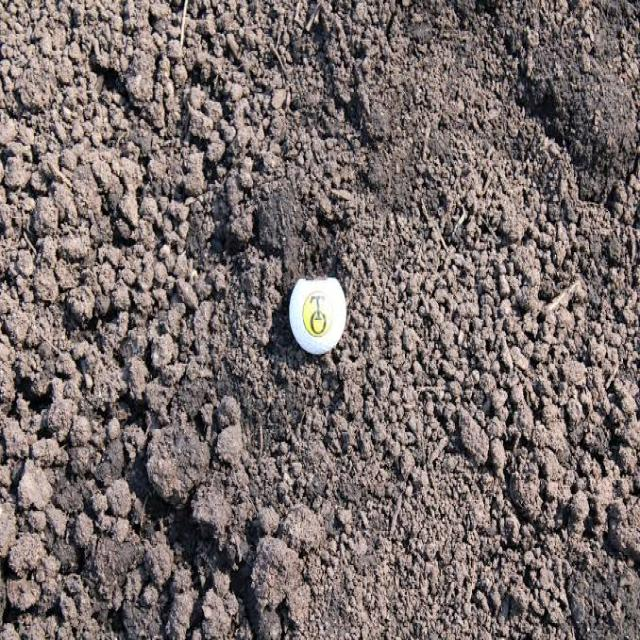suelo_humedo: (62, 107, 558, 557)
